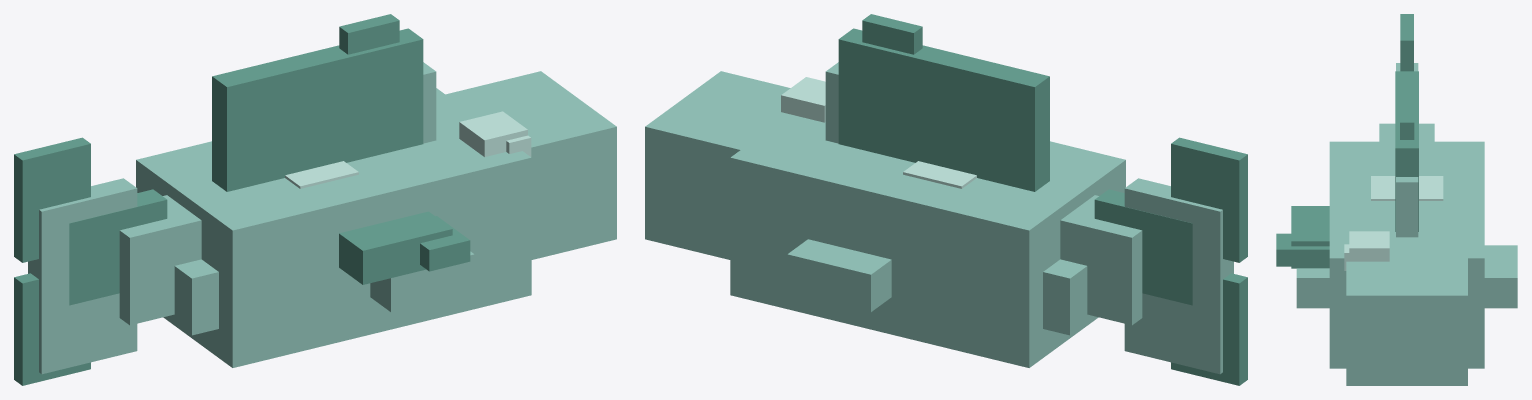
File: fish_opal_dock.glb
3 views of the same model, side by side, from view 1: azimuth 30°, elevation 25°; view 2: azimuth 150°, elevation 25°; view 3: azimuth 270°, elevation 25° (orthographic). The views are drawn at different scales.
Parts seen in each view (by area): view 1: FishArt_body, FishArt_dorsal, FishArt_tail, FishArt_pectoral, FishArt_eye, FishArt_specialty; view 2: FishArt_body, FishArt_dorsal, FishArt_tail, FishArt_eye, FishArt_specialty; view 3: FishArt_body, FishArt_pectoral, FishArt_dorsal, FishArt_eye, FishArt_specialty, FishArt_tail.
Part boxes in pixels (bbox=[...]): FishArt_body: bbox=[28, 62, 616, 374]; FishArt_dorsal: bbox=[212, 14, 423, 191]; FishArt_tail: bbox=[14, 137, 167, 385]; FishArt_pectoral: bbox=[339, 211, 470, 284]; FishArt_eye: bbox=[459, 111, 531, 156]; FishArt_specialty: bbox=[285, 161, 358, 188]; FishArt_body: bbox=[645, 62, 1233, 374]; FishArt_dorsal: bbox=[838, 14, 1049, 191]; FishArt_tail: bbox=[1094, 137, 1247, 385]; FishArt_eye: bbox=[781, 77, 825, 122]; FishArt_specialty: bbox=[903, 161, 976, 188]; FishArt_body: bbox=[1296, 63, 1517, 385]; FishArt_pectoral: bbox=[1276, 206, 1329, 268]; FishArt_dorsal: bbox=[1395, 71, 1418, 231]; FishArt_eye: bbox=[1344, 231, 1389, 270]; FishArt_specialty: bbox=[1371, 176, 1443, 200]; FishArt_tail: bbox=[1400, 14, 1413, 71].
Size of the model in its own units: 0.3091 by 0.1442 by 0.1439.
